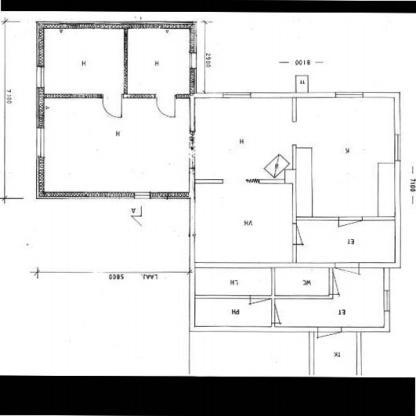door: (98, 92, 126, 120), (153, 95, 183, 120), (315, 324, 347, 341), (334, 214, 368, 229), (335, 260, 362, 277), (290, 220, 306, 247), (246, 293, 274, 307), (270, 304, 285, 330), (329, 273, 342, 300)
perimeter: (38, 23, 398, 330)
window: (31, 125, 49, 162), (217, 88, 260, 102), (330, 88, 370, 103), (390, 131, 404, 165), (33, 64, 48, 92), (130, 189, 158, 202), (379, 287, 392, 313), (188, 51, 200, 70)
